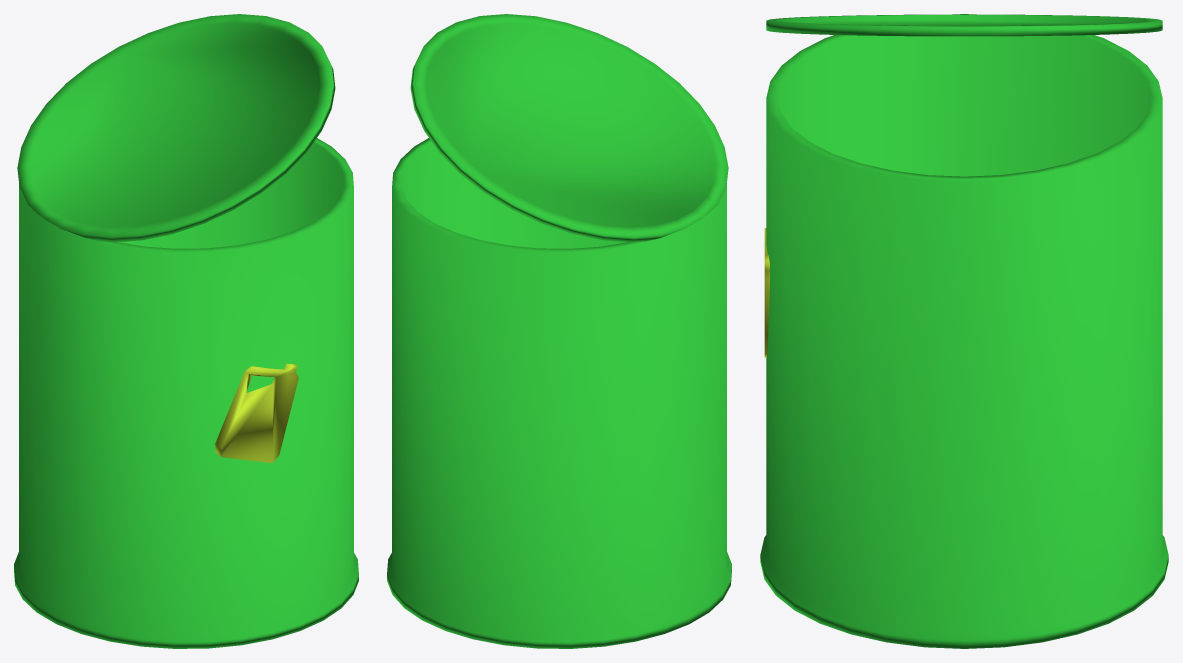
The model's file is bidon toxic.fbx.
3 views of the same model, side by side, from view 1: azimuth 30°, elevation 25°; view 2: azimuth 150°, elevation 25°; view 3: azimuth 270°, elevation 25° (orthographic). The views are drawn at different scales.
Parts seen in each view (by area): view 1: symbole toxic; view 2: symbole toxic; view 3: symbole toxic.
Boxes of the visible parts, box(x1,y1,x2,y2) form: symbole toxic: box(14, 14, 358, 648); symbole toxic: box(387, 14, 731, 648); symbole toxic: box(760, 14, 1168, 648).
Size of the model in its own units: 11.74 by 19.26 by 11.74.
